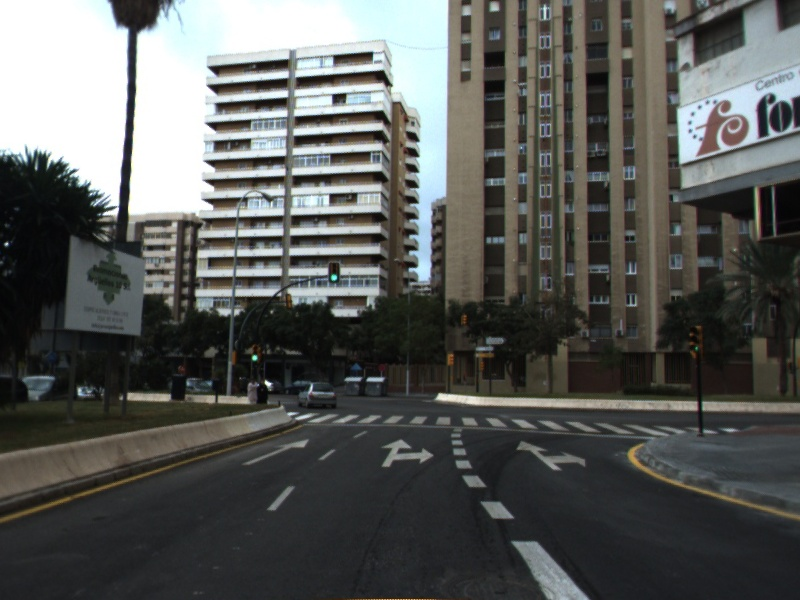STRAIGHT: (239, 437, 312, 467)
STRAIGHT_RIGHT: (514, 438, 588, 473), (378, 437, 436, 469)
